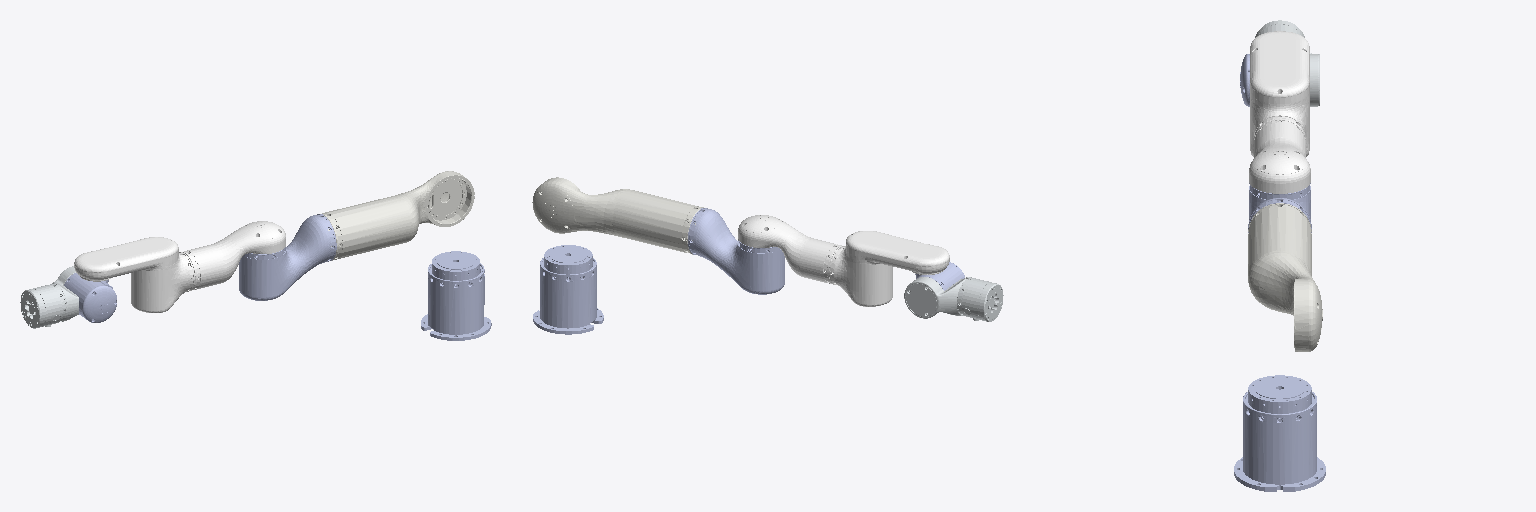
The robot description file, URDF, robot "RXL-6FB":
<?xml version="1.0" encoding="utf-8"?>
<!-- This URDF was automatically created by SolidWorks to URDF Exporter! Originally created by Stephen Brawner (brawner@gmail.com) 
     Commit Version: 1.6.0-4-g7f85cfe  Build Version: 1.6.7995.38578
     For more information, please see http://wiki.ros.org/sw_urdf_exporter -->
<robot
  name="RXL-6FB">
  <link
    name="base_link">
    <inertial>
      <origin
        xyz="-0.001567 0.000482 0.057387"
        rpy="0 0 0" />
      <mass
        value="1.360" />
      <inertia
        ixx="0.001538061"
        ixy="5.117e-06"
        ixz="-1.0816e-05"
        iyy="0.0015157"
        iyz="2.6121e-05"
        izz="0.001161949" />
    </inertial>
    <visual>
      <origin
        xyz="0 0 0"
        rpy="0 0 0" />
      <geometry>
        <mesh
          filename="package://rm_description/meshes/rm_rx75_arm/rm_rx75_left_arm/base_link.STL" />
      </geometry>
      <material
        name="">
        <color
          rgba="0.792156862745098 0.819607843137255 0.933333333333333 1" />
      </material>
    </visual>
    <collision>
      <origin
        xyz="0 0 0"
        rpy="0 0 0" />
      <geometry>
        <mesh
          filename="package://rm_description/meshes/rm_rx75_arm/rm_rx75_left_arm/base_link.STL" />
      </geometry>
    </collision>
  </link>
  <link
    name="Link1">
    <inertial>
      <origin
        xyz="-0.000488 -0.013727 -0.010765"
        rpy="0 0 0" />
      <mass
        value="1.559" />
      <inertia
        ixx="2661.9E-6"
        ixy="-31.029E-6"
        ixz="9.34E-6"
        iyy="2302.5E-6"
        iyz="151.466E-6"
        izz="1676.59E-6" />
    </inertial>
    <visual>
      <origin
        xyz="0 0 0"
        rpy="0 0 0" />
      <geometry>
        <mesh
          filename="package://rm_description/meshes/rm_rx75_arm/rm_rx75_left_arm/Link1.STL" />
      </geometry>
      <material
        name="">
        <color
          rgba="0.925490196078431 0.925490196078431 0.905882352941176 1" />
      </material>
    </visual>
    <collision>
      <origin
        xyz="0 0 0"
        rpy="0 0 0" />
      <geometry>
        <mesh
          filename="package://rm_description/meshes/rm_rx75_arm/rm_rx75_left_arm/Link1.STL" />
      </geometry>
    </collision>
  </link>
  <joint
    name="J1"
    type="revolute">
    <origin
      xyz="0 0 0.191500058118611"
      rpy="0 0 0" />
    <parent
      link="base_link" />
    <child
      link="Link1" />
    <axis
      xyz="0 0 1" />
    <limit
      lower="-3.0194"
      upper="3.0194"
      effort="60"
      velocity="3.14" />
  </joint>
  <link
    name="Link2">
    <inertial>
      <origin
        xyz="-0.000112 0.148134 -0.00411099999999801"
        rpy="0 0 0" />
      <mass
        value="1.394" />
      <inertia
        ixx="6927.3E-6"
        ixy="-3.01999999999947e-07"
        ixz="2.679e-06"
        iyy="0.00104500200000002"
        iyz="-0.000801141000000078"
        izz="0.00686452599999998" />
    </inertial>
    <visual>
      <origin
        xyz="0 0 0"
        rpy="-3.14159265358978 0 0" />
      <geometry>
        <mesh
          filename="package://rm_description/meshes/rm_rx75_arm/rm_rx75_left_arm/Link2L.STL" />
      </geometry>
      <material
        name="">
        <color
          rgba="0.925490196078431 0.925490196078431 0.905882352941176 1" />
      </material>
    </visual>
    <collision>
      <origin
        xyz="0 0 0"
        rpy="-3.14159265358978 0 0" />
      <geometry>
        <mesh
          filename="package://rm_description/meshes/rm_rx75_arm/rm_rx75_left_arm/Link2L.STL" />
      </geometry>
    </collision>
  </link>
  <joint
    name="J2"
    type="revolute">
    <origin
      xyz="0 0 0"
      rpy="1.57079632679489 -1.57079632679489 0" />
    <parent
      link="Link1" />
    <child
      link="Link2" />
    <axis
      xyz="0 0 1" />
    <limit
      lower="-3.1067"
      upper="0.6109"
      effort="60"
      velocity="3.14" />
  </joint>
  <link
    name="Link3">
    <inertial>
      <origin
        xyz="-3.20000000000396e-05 0.0156490000000001 0.0112249999999999"
        rpy="0 0 0" />
      <mass
        value="1.117" />
      <inertia
        ixx="0.001757334"
        ixy="-7.06000000003537e-07"
        ixz="3.86400000001125e-06"
        iyy="0.001468535"
        iyz="0.000112640999999996"
        izz="0.000979742999999998" />
    </inertial>
    <visual>
      <origin
        xyz="0 0 0"
        rpy="-3.14159265358979 0 3.14159265358979" />
      <geometry>
        <mesh
          filename="package://rm_description/meshes/rm_rx75_arm/rm_rx75_left_arm/Link3.STL" />
      </geometry>
      <material
        name="">
        <color
          rgba="0.792156862745098 0.819607843137255 0.933333333333333 1" />
      </material>
    </visual>
    <collision>
      <origin
        xyz="0 0 0"
        rpy="-3.14159265358979 0 3.14159265358979" />
      <geometry>
        <mesh
          filename="package://rm_description/meshes/rm_rx75_arm/rm_rx75_left_arm/Link3.STL" />
      </geometry>
    </collision>
  </link>
  <joint
    name="J3"
    type="revolute">
    <origin
      xyz="0 0.322 0"
      rpy="1.5707963267949 -1.5707963267949 0" />
    <parent
      link="Link2" />
    <child
      link="Link3" />
    <axis
      xyz="0 0 1" />
    <limit
      lower="-3.0194"
      upper="3.0194"
      effort="30"
      velocity="3.925" />
  </joint>
  <link
    name="Link4">
    <inertial>
      <origin
        xyz="1.00000000111348e-06 -0.0854489999999999 0.00484400000000123"
        rpy="0 0 0" />
      <mass
        value="0.673" />
      <inertia
        ixx="0.001283435"
        ixy="-7.19999999857482e-08"
        ixz="-2.99999999672904e-09"
        iyy="0.000344096999999993"
        iyz="-0.000229827999999987"
        izz="0.00125775300000001" />
    </inertial>
    <visual>
      <origin
        xyz="0 0 0"
        rpy="0 0 -3.14159265358978" />
      <geometry>
        <mesh
          filename="package://rm_description/meshes/rm_rx75_arm/rm_rx75_left_arm/Link4.STL" />
      </geometry>
      <material
        name="">
        <color
          rgba="1 1 1 1" />
      </material>
    </visual>
    <collision>
      <origin
        xyz="0 0 0"
        rpy="0 0 -3.14159265358978" />
      <geometry>
        <mesh
          filename="package://rm_description/meshes/rm_rx75_arm/rm_rx75_left_arm/Link4.STL" />
      </geometry>
    </collision>
  </link>
  <joint
    name="J4"
    type="revolute">
    <origin
      xyz="0 0 0"
      rpy="1.5707963267949 0 0" />
    <parent
      link="Link3" />
    <child
      link="Link4" />
    <axis
      xyz="0 0 1" />
    <limit
      lower="-2.2689"
      upper="0.2618"
      effort="30"
      velocity="3.925" />
  </joint>
  <link
    name="Link5">
    <inertial>
      <origin
        xyz="9.9999999881214e-07 -0.0147409999999994 0.0806270000000001"
        rpy="0 0 0" />
      <mass
        value="1.13" />
      <inertia
        ixx="0.002343205"
        ixy="-7.39999999969439e-08"
        ixz="-2.59999999863413e-08"
        iyy="0.00193435599999999"
        iyz="-0.000443762000000006"
        izz="0.00109178100000001" />
    </inertial>
    <visual>
      <origin
        xyz="0 0 0"
        rpy="-3.14159265358979 0 3.14159265358979" />
      <geometry>
        <mesh
          filename="package://rm_description/meshes/rm_rx75_arm/rm_rx75_left_arm/Link5.STL" />
      </geometry>
      <material
        name="">
        <color
          rgba="1 1 1 1" />
      </material>
    </visual>
    <collision>
      <origin
        xyz="0 0 0"
        rpy="-3.14159265358979 0 3.14159265358979" />
      <geometry>
        <mesh
          filename="package://rm_description/meshes/rm_rx75_arm/rm_rx75_left_arm/Link5.STL" />
      </geometry>
    </collision>
  </link>
  <joint
    name="J5"
    type="revolute">
    <origin
      xyz="0 -0.2755 0"
      rpy="-1.5707963267949 0 0" />
    <parent
      link="Link4" />
    <child
      link="Link5" />
    <axis
      xyz="0 0 1" />
    <limit
      lower="-3.0194"
      upper="3.0194"
      effort="10"
      velocity="3.925" />
  </joint>
  <link
    name="Link6">
    <inertial>
      <origin
        xyz="-0.0139090037466191 0.00101996082892688 0.003244996253309"
        rpy="0 0 0" />
      <mass
        value="0.559" />
      <inertia
        ixx="0.000354165998177944"
        ixy="2.48141172265305e-07"
        ixz="-2.76080034601156e-05"
        iyy="0.000288125006920793"
        iyz="6.93988058383171e-07"
        izz="0.000312481994901263" />
    </inertial>
    <visual>
      <origin
        xyz="0 0 0"
        rpy="3.67320510363811e-06 0 -3.14158898038468" />
      <geometry>
        <mesh
          filename="package://rm_description/meshes/rm_rx75_arm/rm_rx75_left_arm/Link6.STL" />
      </geometry>
      <material
        name="">
        <color
          rgba="0.792156862745098 0.819607843137255 0.933333333333333 1" />
      </material>
    </visual>
    <collision>
      <origin
        xyz="0 0 0"
        rpy="3.67320510363811e-06 0 -3.14158898038468" />
      <geometry>
        <mesh
          filename="package://rm_description/meshes/rm_rx75_arm/rm_rx75_left_arm/Link6.STL" />
      </geometry>
    </collision>
  </link>
  <joint
    name="J6"
    type="revolute">
    <origin
      xyz="0 0 0"
      rpy="1.57079632679489 -1.57079632679489 0" />
    <parent
      link="Link5" />
    <child
      link="Link6" />
    <axis
      xyz="-1.34852407379736e-11 3.67320510363811e-06 0.999999999993254" />
    <limit
      lower="-0.9599"
      upper="0.9599"
      effort="10"
      velocity="3.925" />
  </joint>
  <link
    name="Link7">
    <inertial>
      <origin
        xyz="0.020024505448176 0.0709998690405559 -0.00439581275532443"
        rpy="0 0 0" />
      <mass
        value="0.483" />
      <inertia
        ixx="0.00081060841974933"
        ixy="-0.000154758826776752"
        ixz="-4.17054985378035e-05"
        iyy="0.00115209825122415"
        iyz="-0.000133039918109125"
        izz="0.00164021532902652" />
    </inertial>
    <visual>
      <origin
        xyz="0 0 0"
        rpy="-3.14158898039817 3.67319161154178e-06 -7.34641021371552e-06" />
      <geometry>
        <mesh
          filename="package://rm_description/meshes/rm_rx75_arm/rm_rx75_left_arm/Link7.STL" />
      </geometry>
      <material
        name="">
        <color
          rgba="0.89804 0.91765 0.92941 1" />
      </material>
    </visual>
    <collision>
      <origin
        xyz="0 0 0"
        rpy="-3.14158898039817 3.67319161154178e-06 -7.34641021371552e-06" />
      <geometry>
        <mesh
          filename="package://rm_description/meshes/rm_rx75_arm/rm_rx75_left_arm/Link7.STL" />
      </geometry>
    </collision>
  </link>
  <joint
    name="J7"
    type="revolute">
    <origin
      xyz="-0.0154999999998954 -5.69346792539532e-08 0"
      rpy="-1.57079265342442 -1.57079265358979 3.14159265342442" />
    <parent
      link="Link6" />
    <child
      link="Link7" />
    <axis
      xyz="3.67316462645414e-06 -3.67321860535316e-06 0.999999999986507" />
    <limit
      lower="-1.9024"
      upper="0.6109"
      effort="10"
      velocity="3.925" />
  </joint>
  <link
    name="Link8">
    <inertial>
      <origin
        xyz="-0.00022351 8.8364E-05 -0.017157"
        rpy="0 0 0" />
      <mass
        value="0.16582" />
      <inertia
        ixx="4.8849E-05"
        ixy="-9.4591E-08"
        ixz="3.0619E-07"
        iyy="4.9461E-05"
        iyz="8.0268E-09"
        izz="7.6902E-05" />
    </inertial>
    <visual>
      <origin
        xyz="0 0 0"
        rpy="-3.14158898037119 -7.34641021371552e-06 -3.67319161131974e-06" />
      <geometry>
        <mesh
          filename="package://rm_description/meshes/rm_rx75_arm/rm_rx75_left_arm/Link8.STL" />
      </geometry>
      <material
        name="">
        <color
          rgba="0.89804 0.91765 0.92941 1" />
      </material>
    </visual>
    <collision>
      <origin
        xyz="0 0 0"
        rpy="-3.14158898037119 -7.34641021371552e-06 -3.67319161131974e-06" />
      <geometry>
        <mesh
          filename="package://rm_description/meshes/rm_rx75_arm/rm_rx75_left_arm/Link8.STL" />
      </geometry>
    </collision>
  </link>
  <joint
    name="J8"
    type="revolute">
    <origin
      xyz="7.0672599076925e-07 0.0962000041138844 3.53361049046908e-07"
      rpy="1.57079632679489 0 0" />
    <parent
      link="Link7" />
    <child
      link="Link8" />
    <axis
      xyz="0 0 1" />
    <limit
      lower="0"
      upper="0"
      effort="0"
      velocity="0" />
  </joint>
</robot>

--- What the picture shows (computed from the rendered views, not written in the file) ---
Views: 3 orthographic renders of the robot side by side, from view 1: azimuth 30°, elevation 25°; view 2: azimuth 150°, elevation 25°; view 3: azimuth 270°, elevation 25°.
Model RXL-6FB with 9 links and 8 joints (8 revolute), rooted at base_link, posed every joint at zero.
Visible links, largest first — view 1: Link2, Link5, base_link, Link3, Link4, Link8, Link6, Link7; view 2: Link2, Link5, base_link, Link3, Link4, Link7, Link8; view 3: base_link, Link2, Link5, Link4, Link3, Link7.
Link boxes in pixels (<box>): Link2: <box>322,171,474,260</box>; Link5: <box>74,237,194,312</box>; base_link: <box>421,251,491,340</box>; Link3: <box>239,214,336,300</box>; Link4: <box>183,221,285,290</box>; Link8: <box>20,284,66,328</box>; Link6: <box>64,273,116,322</box>; Link7: <box>52,266,78,321</box>; Link2: <box>532,177,703,254</box>; Link5: <box>829,231,949,306</box>; base_link: <box>533,245,603,334</box>; Link3: <box>688,208,784,294</box>; Link4: <box>738,215,841,284</box>; Link7: <box>904,277,968,318</box>; Link8: <box>957,277,1003,321</box>; base_link: <box>1234,375,1325,491</box>; Link2: <box>1248,203,1322,351</box>; Link5: <box>1250,31,1309,156</box>; Link4: <box>1249,119,1310,193</box>; Link3: <box>1248,183,1311,232</box>; Link7: <box>1310,53,1319,106</box>.
Size in the robot's own frame: 0.7573 by 0.1019 by 0.2466 metres.
Meshes: 9 distinct files referenced, 8 mesh visuals loaded (8 binary STL); not drawn: 1 (reference not matched to a file when rendering).
